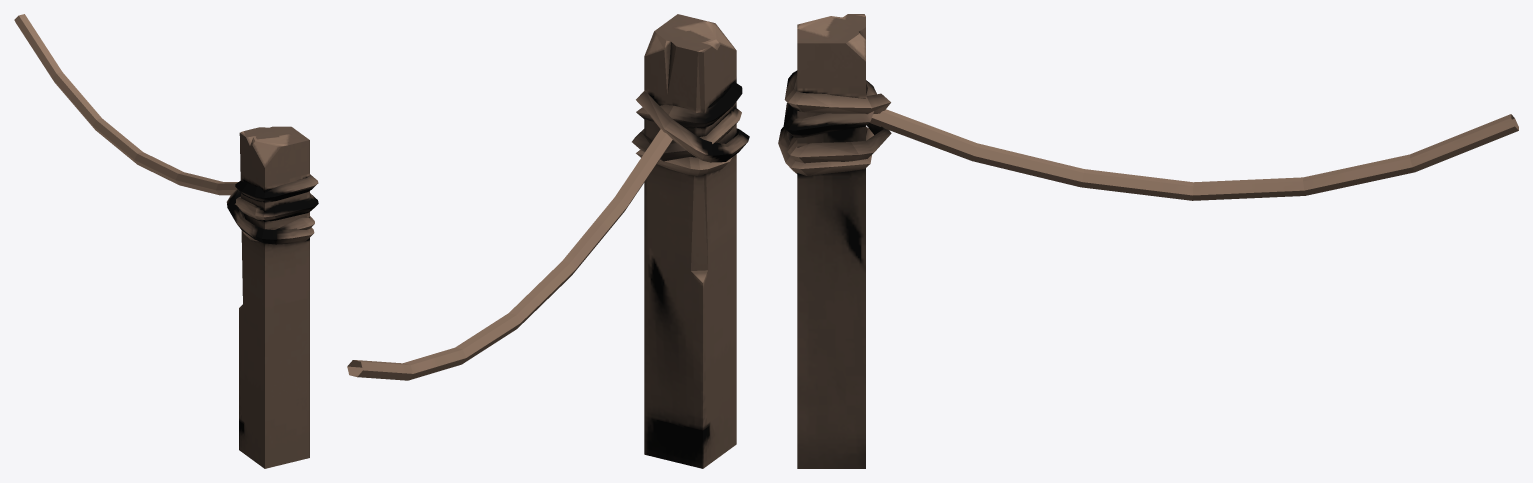
File: Bridge_FenceRope.fbx
3 renders of one model, left to right at view 1: azimuth 30°, elevation 25°; view 2: azimuth 150°, elevation 25°; view 3: azimuth 270°, elevation 25°, orthographic. The views are drawn at different scales.
Parts seen in each view (by area): view 1: SM_Bridge_03_Fence.mo; view 2: SM_Bridge_03_Fence.mo; view 3: SM_Bridge_03_Fence.mo.
Part boxes in pixels (<box>): SM_Bridge_03_Fence.mo: <box>14,14,318,468</box>; SM_Bridge_03_Fence.mo: <box>347,14,749,468</box>; SM_Bridge_03_Fence.mo: <box>778,14,1518,468</box>.
Bounding box in the file's own units: 32.81 × 150 × 237.
Materials: 2 (2 with a texture image).
